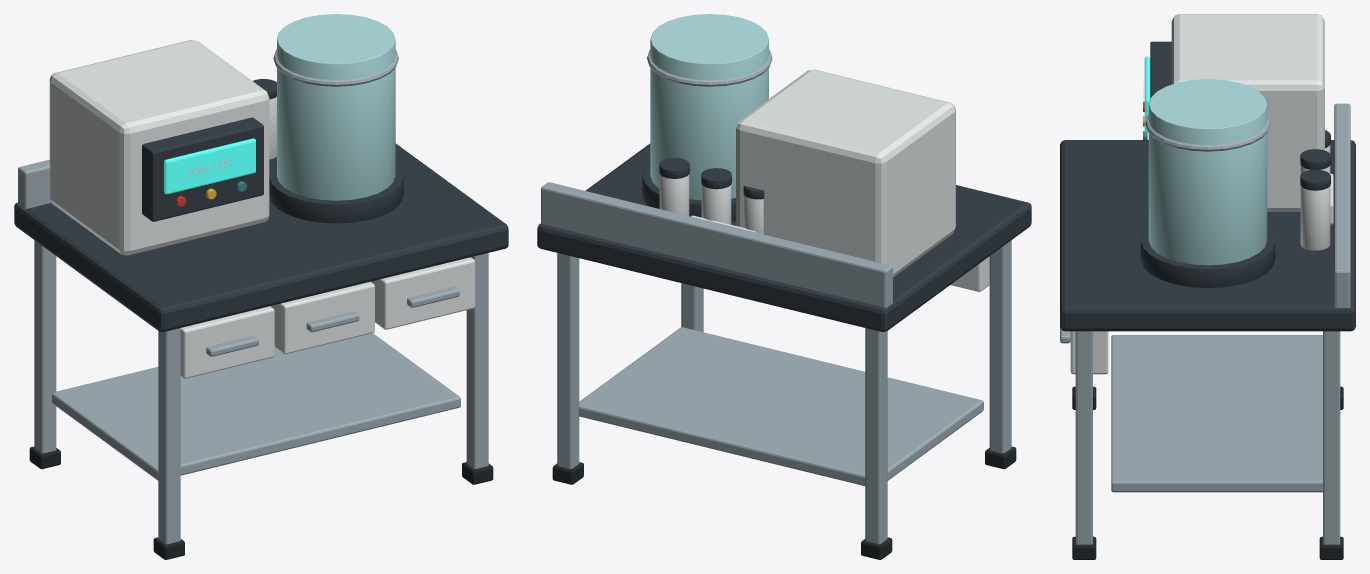
File: electrolysis-bench.glb
3 renders of one model, left to right at view 1: azimuth 30°, elevation 25°; view 2: azimuth 150°, elevation 25°; view 3: azimuth 270°, elevation 25°, orthographic.
Parts seen in each view (by area): view 1: Worktop, Equipment shelf, Instrument housing, Instrument body, Display housing, Tubular leg, Cabinet drawer.002, Cabinet drawer.001, Tubular leg.001, Cabinet drawer, Tubular leg.002, Base (+3 smaller); view 2: Instrument housing, Equipment shelf, Worktop, Instrument body, Splashback, Tubular leg.001, Tubular leg.003, Tubular leg, Closed sample container.002, Closed sample container.001, Tubular leg.002, Detail ring (+3 smaller); view 3: Equipment shelf, Worktop, Instrument body, Instrument housing, Tubular leg.002, Tubular leg.003, Base, Splashback, Closed sample container.002, Display housing, Detail ring, Cabinet drawer.002 (+5 smaller).
Part boxes in pixels (bbox=[...]): Worktop: bbox=[14, 143, 508, 331]; Equipment shelf: bbox=[52, 333, 460, 480]; Instrument housing: bbox=[49, 40, 269, 255]; Instrument body: bbox=[277, 14, 395, 200]; Display housing: bbox=[142, 117, 263, 221]; Tubular leg: bbox=[158, 328, 180, 544]; Cabinet drawer.002: bbox=[371, 257, 475, 329]; Cabinet drawer.001: bbox=[270, 281, 374, 354]; Tubular leg.001: bbox=[34, 240, 56, 453]; Cabinet drawer: bbox=[180, 306, 274, 378]; Tubular leg.002: bbox=[466, 253, 488, 468]; Base: bbox=[269, 163, 403, 223]; Instrument housing: bbox=[736, 69, 955, 277]; Equipment shelf: bbox=[578, 327, 983, 485]; Worktop: bbox=[537, 143, 1031, 331]; Instrument body: bbox=[650, 14, 768, 200]; Splashback: bbox=[541, 182, 892, 307]; Tubular leg.001: bbox=[865, 328, 887, 544]; Tubular leg.003: bbox=[557, 253, 579, 468]; Tubular leg: bbox=[989, 240, 1011, 453]; Closed sample container.002: bbox=[659, 174, 689, 215]; Closed sample container.001: bbox=[701, 184, 731, 224]; Tubular leg.002: bbox=[681, 283, 703, 332]; Detail ring: bbox=[647, 49, 772, 86]; Equipment shelf: bbox=[1111, 335, 1322, 492]; Worktop: bbox=[1060, 140, 1355, 331]; Instrument body: bbox=[1148, 79, 1267, 265]; Instrument housing: bbox=[1171, 14, 1324, 211]; Tubular leg.002: bbox=[1075, 331, 1092, 544]; Tubular leg.003: bbox=[1323, 331, 1340, 544]; Base: bbox=[1140, 228, 1275, 287]; Splashback: bbox=[1334, 103, 1350, 308]; Closed sample container.002: bbox=[1300, 186, 1330, 250]; Display housing: bbox=[1150, 41, 1171, 98]; Detail ring: bbox=[1145, 114, 1270, 151]; Cabinet drawer.002: bbox=[1070, 331, 1108, 374].
Bounding box in the file's own units: 1.5 × 1.69 × 1.1.
